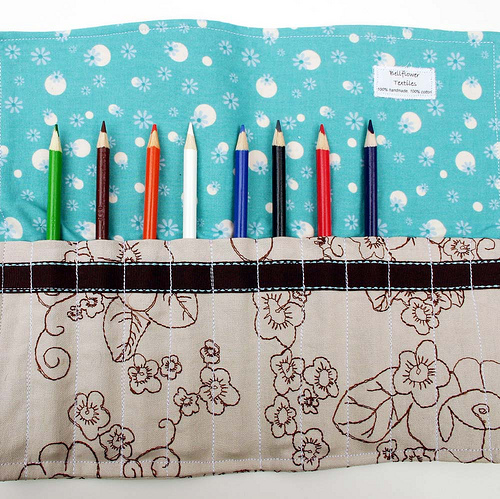pen_tip: (312, 118, 340, 162), (89, 116, 119, 156), (263, 121, 291, 162), (357, 114, 383, 154), (46, 118, 69, 161), (231, 118, 254, 161), (142, 124, 168, 161)
